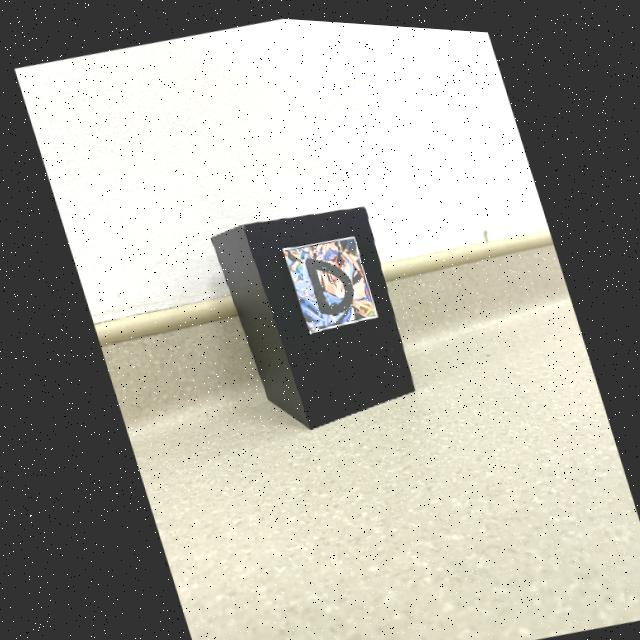D: (302, 253, 350, 311)
